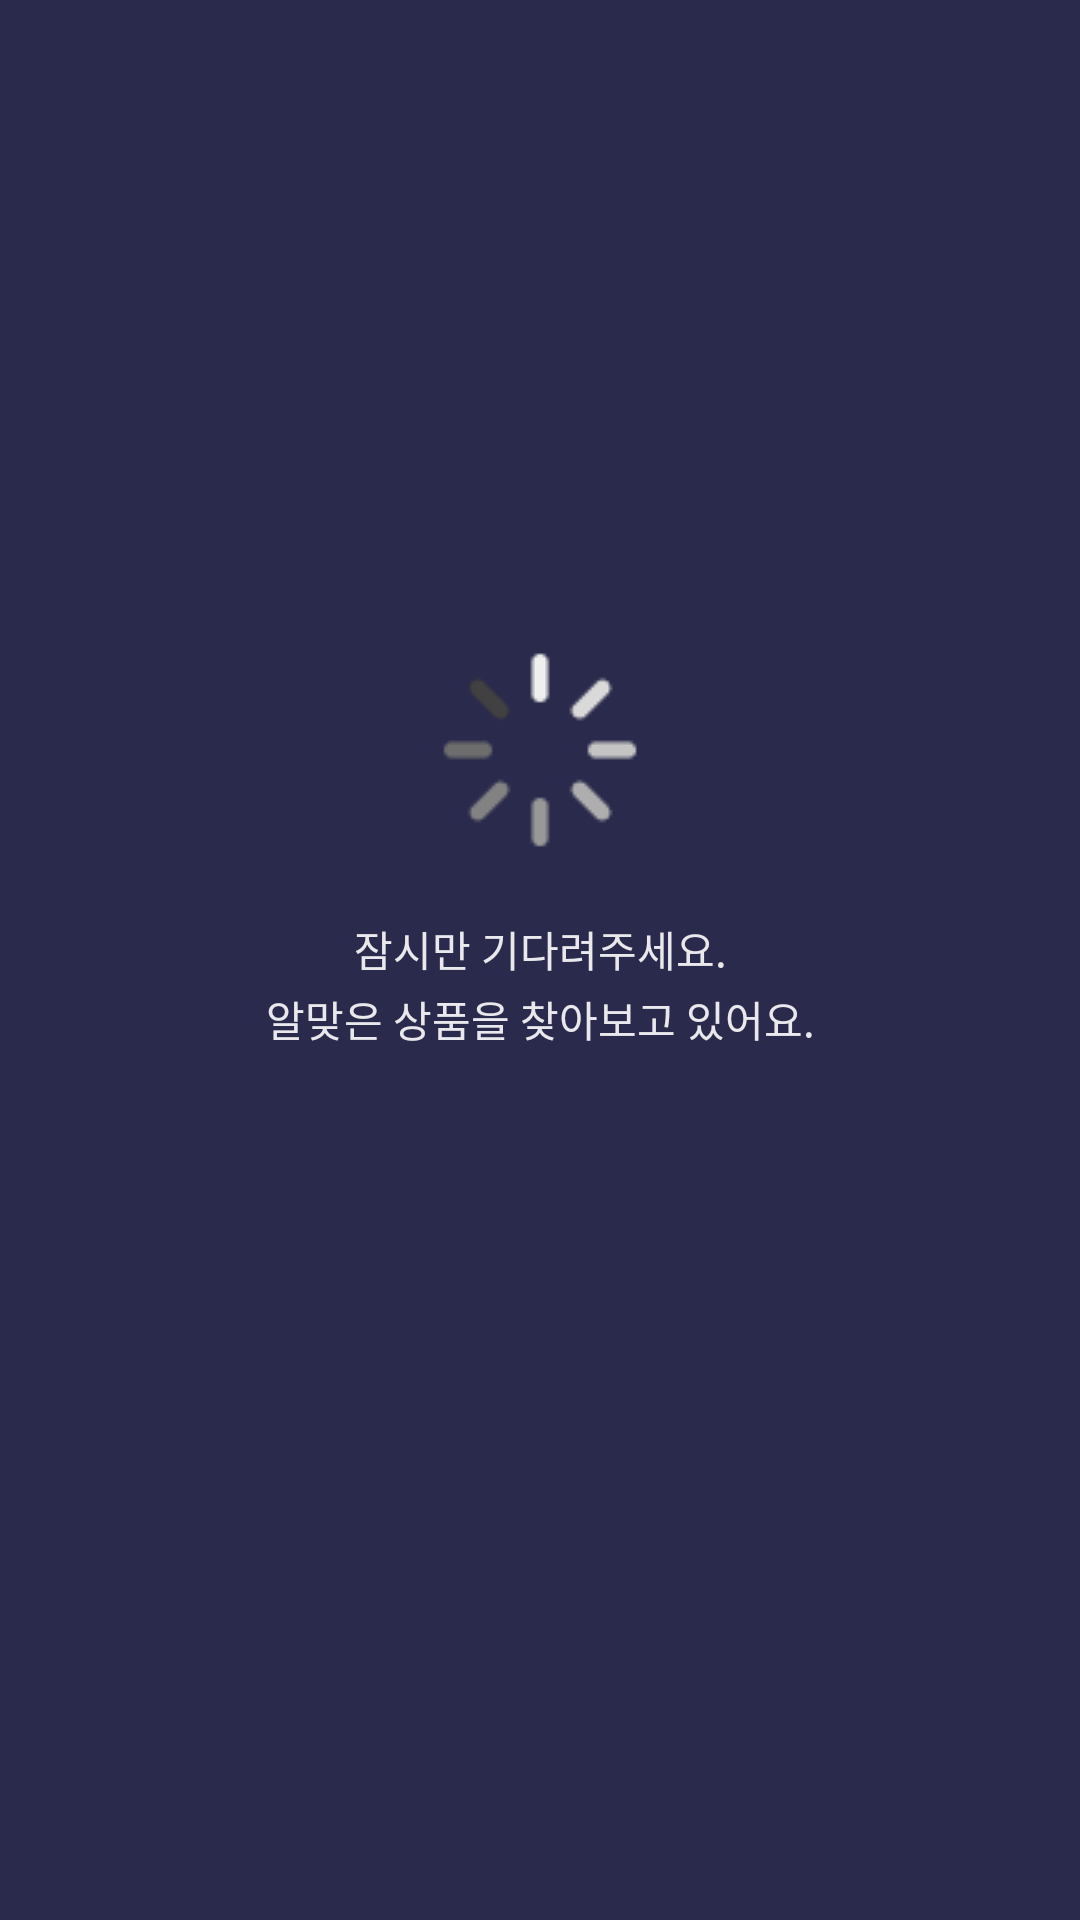

Icons on this 1080×1920 Android screen, each with its box as detection(x1, y1, x2, y2):
loading: detection(444, 653, 637, 847)
